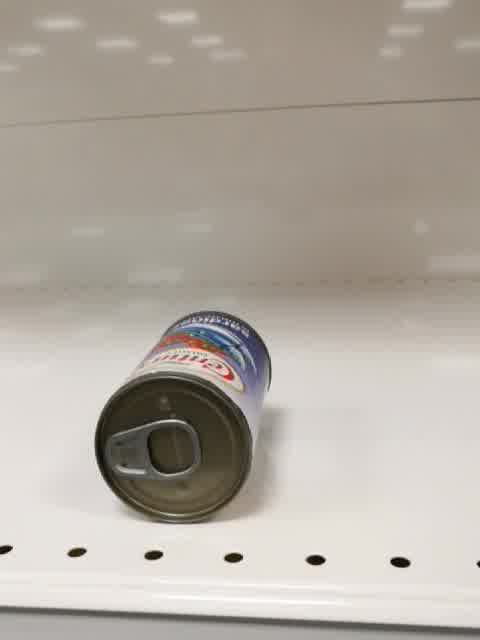sardine: (94, 308, 273, 524)
